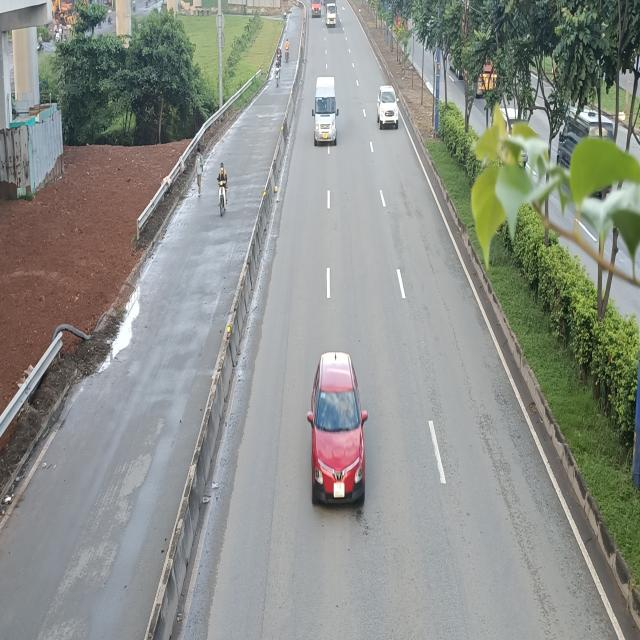car: (310, 352, 370, 510), (377, 85, 401, 129)
van: (313, 75, 341, 145)
